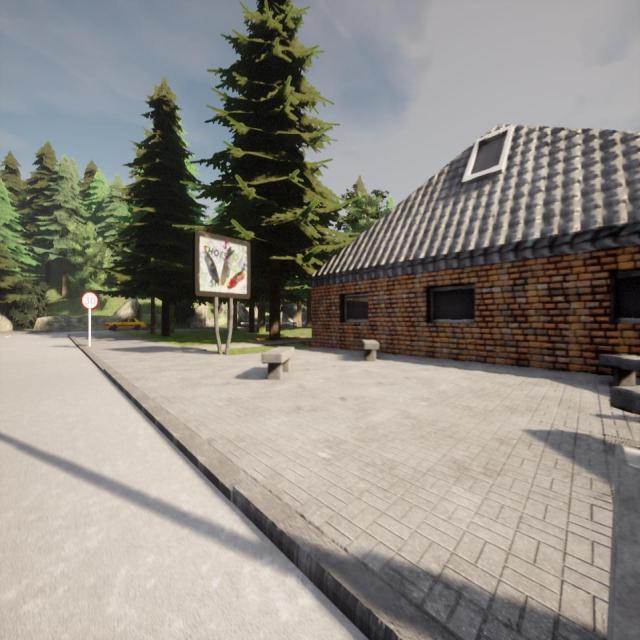Traffic_Signs: (80, 291, 98, 310)
Vehicle: (104, 317, 146, 331)
